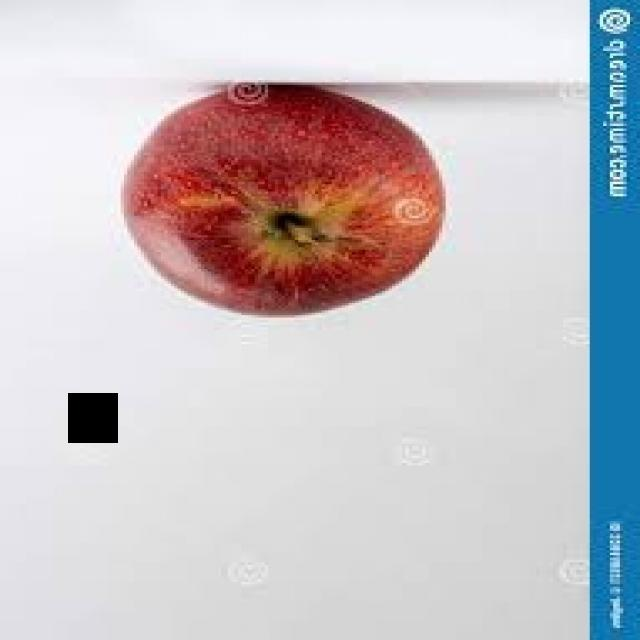red apple: (114, 84, 454, 323)
